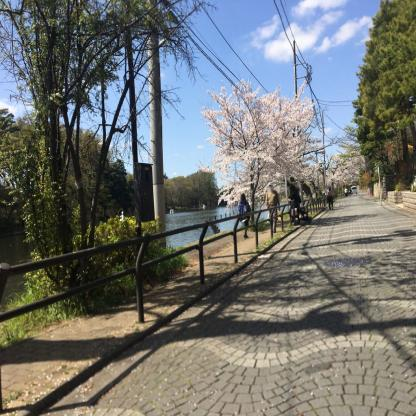Someiyoshino: (193, 70, 321, 214), (318, 152, 368, 188)
